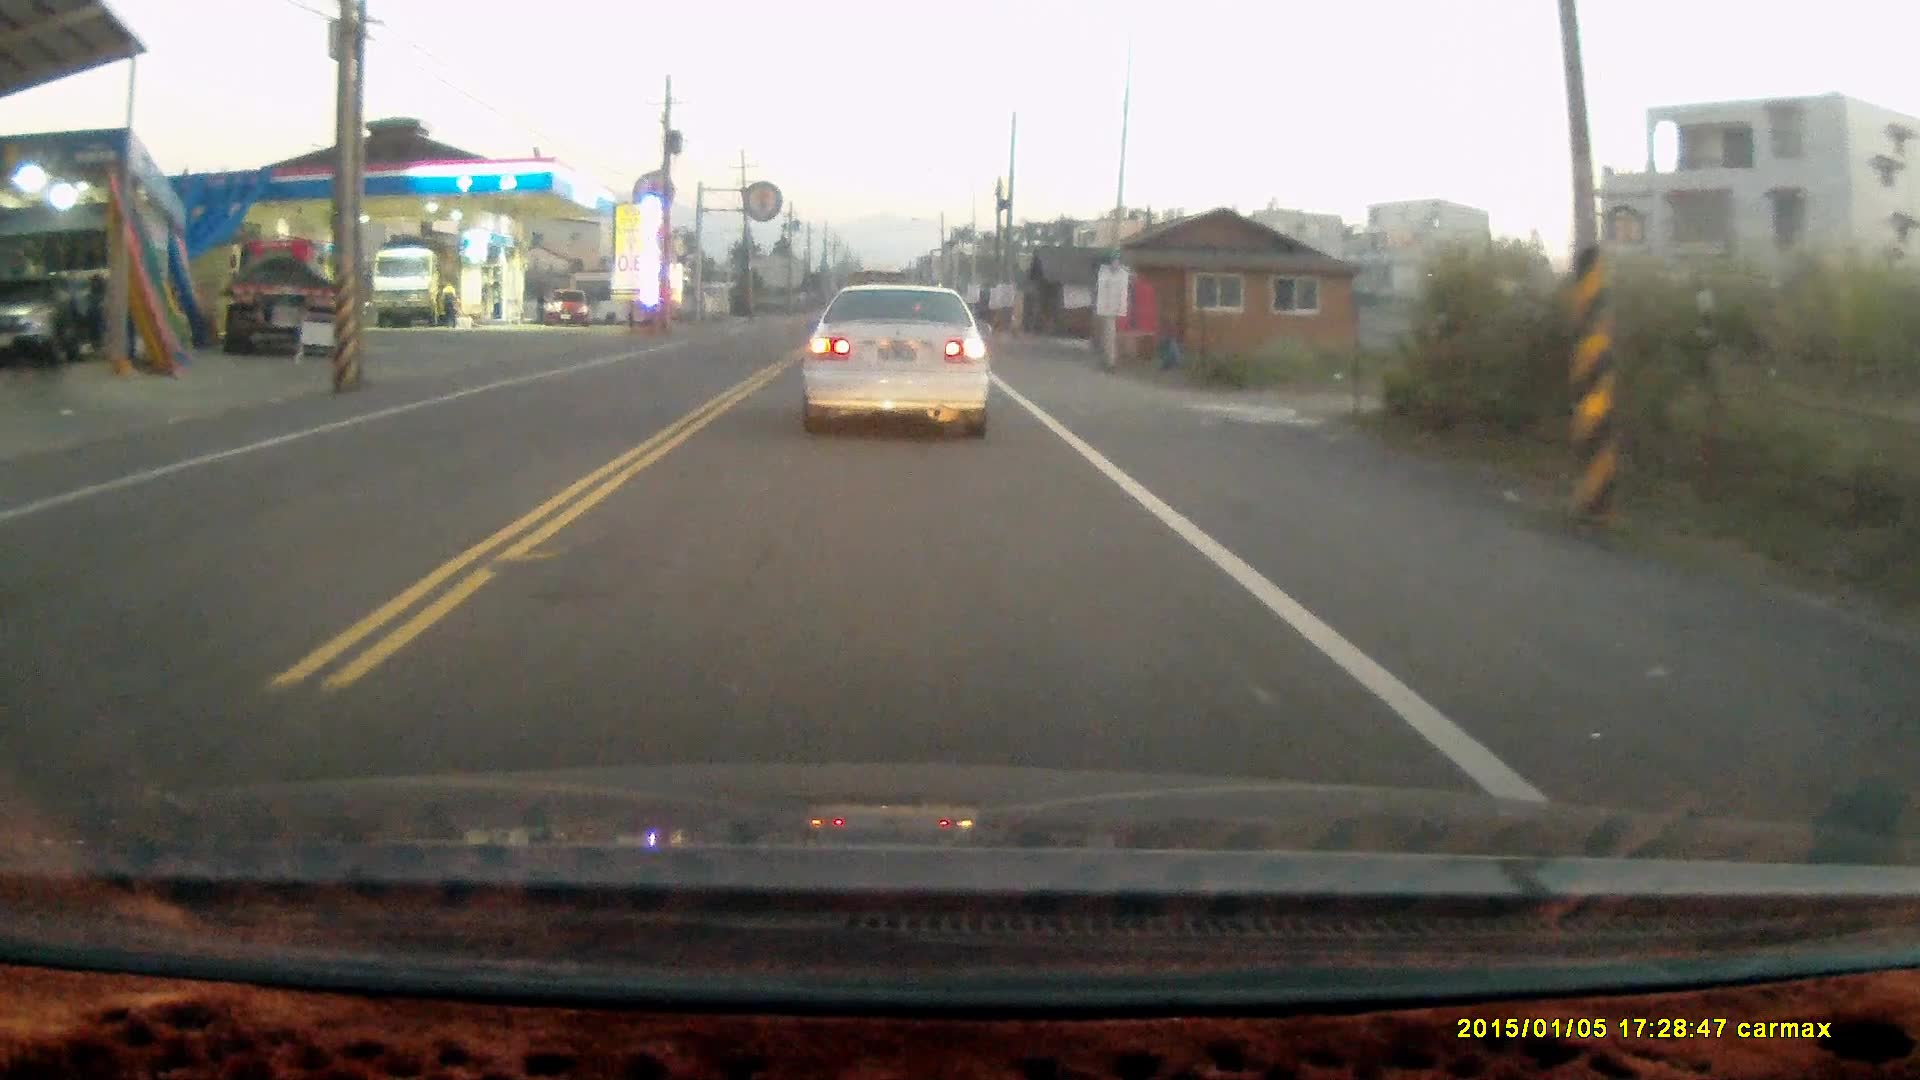pedestrian: (436, 278, 458, 327)
vehicle: (795, 280, 995, 448), (219, 240, 330, 357), (372, 251, 453, 336), (545, 291, 589, 330)
